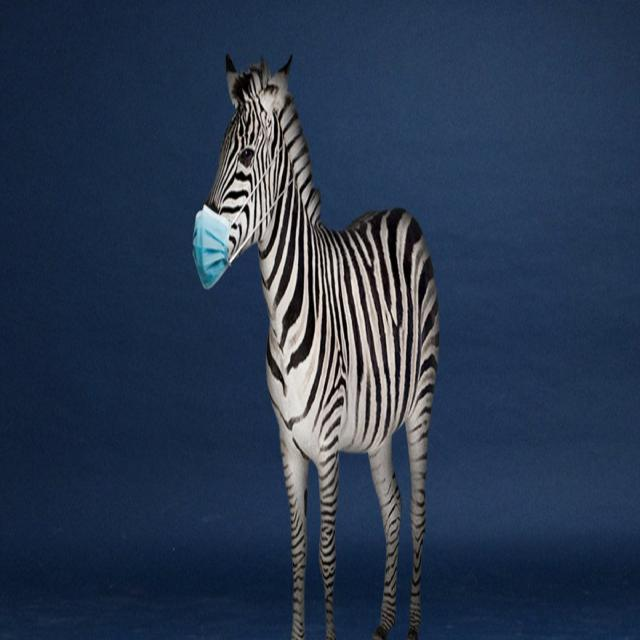Zebra: (190, 61, 440, 640)
